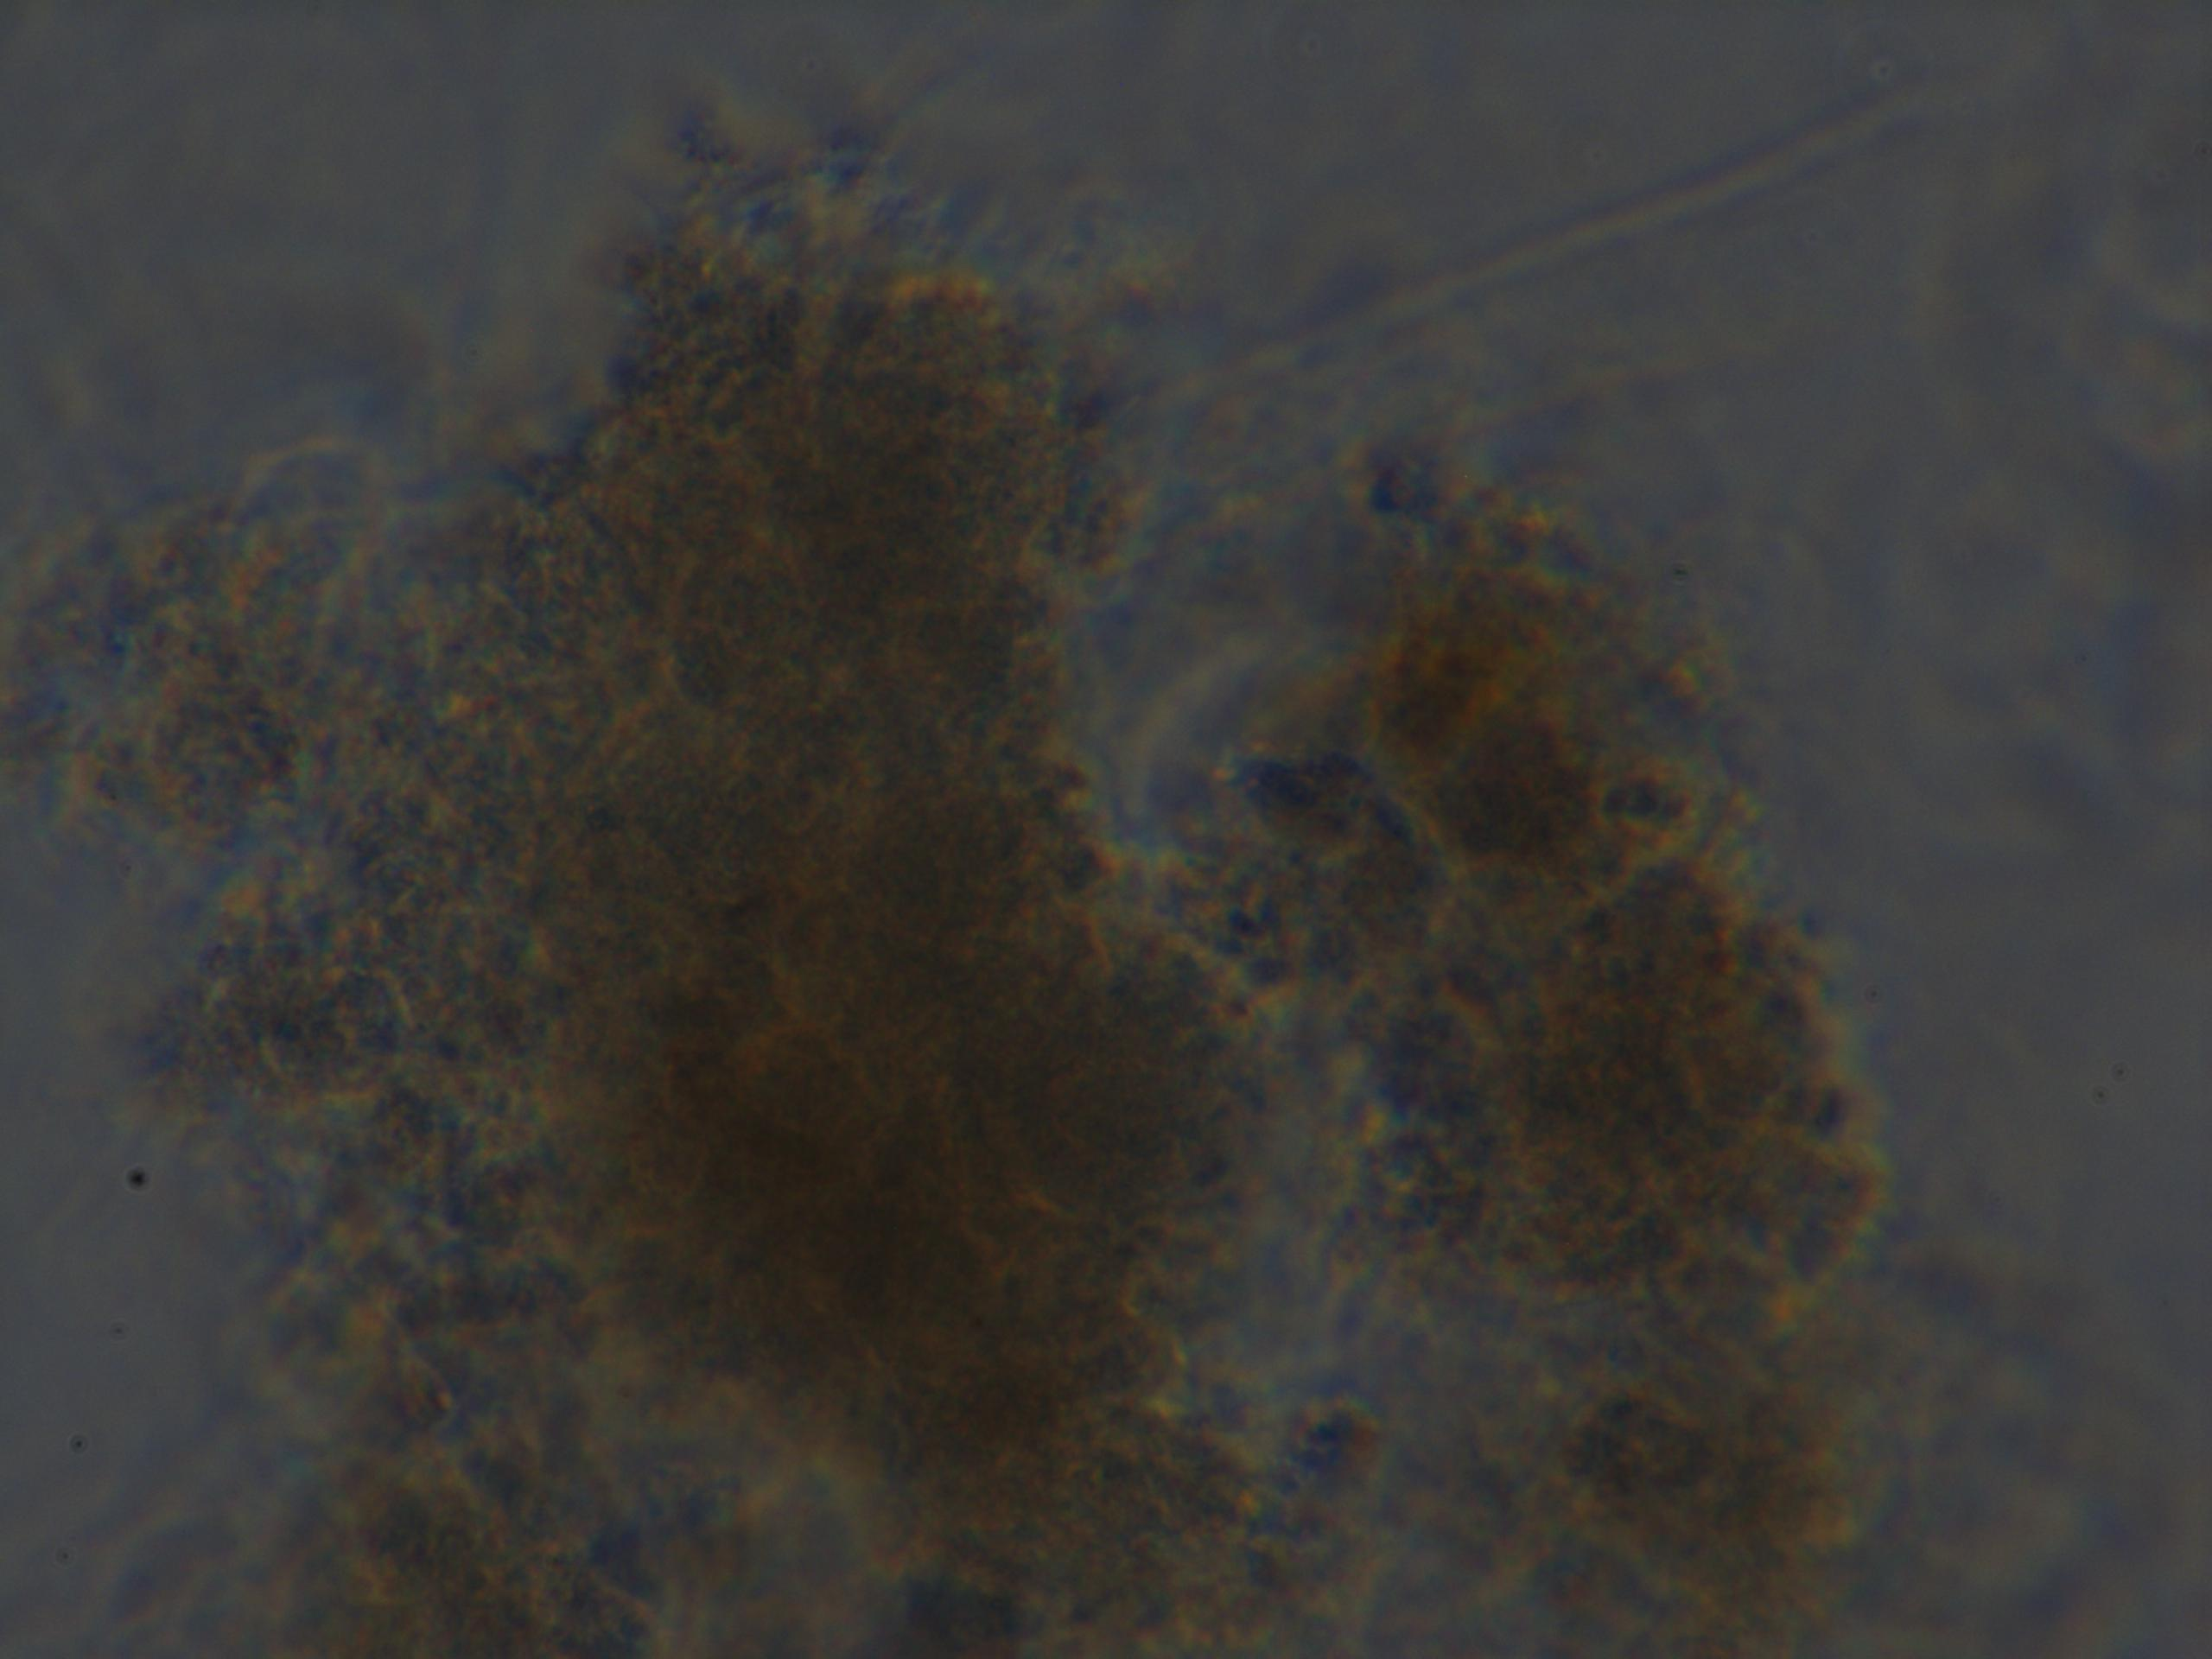filament: (1049, 78, 1959, 462)
spherical_floc: (307, 139, 1280, 1659)
